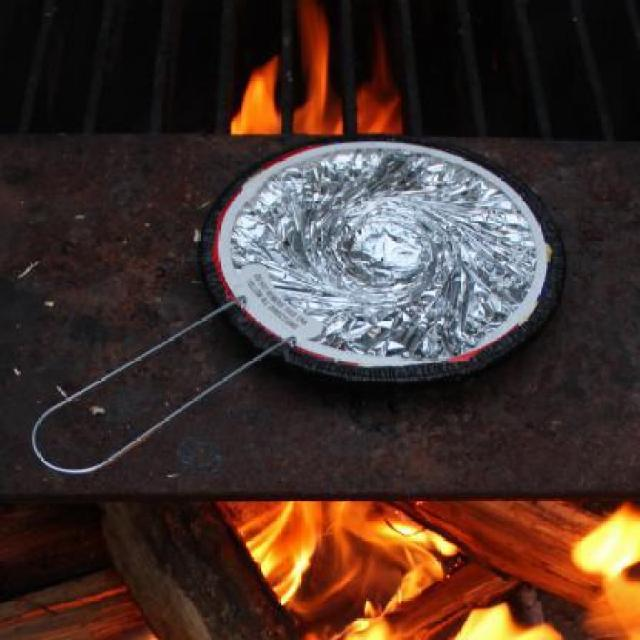Fire: (219, 500, 456, 640), (574, 497, 640, 640), (291, 0, 340, 133), (569, 505, 640, 582), (354, 26, 402, 137), (456, 598, 566, 640), (233, 60, 282, 137)
